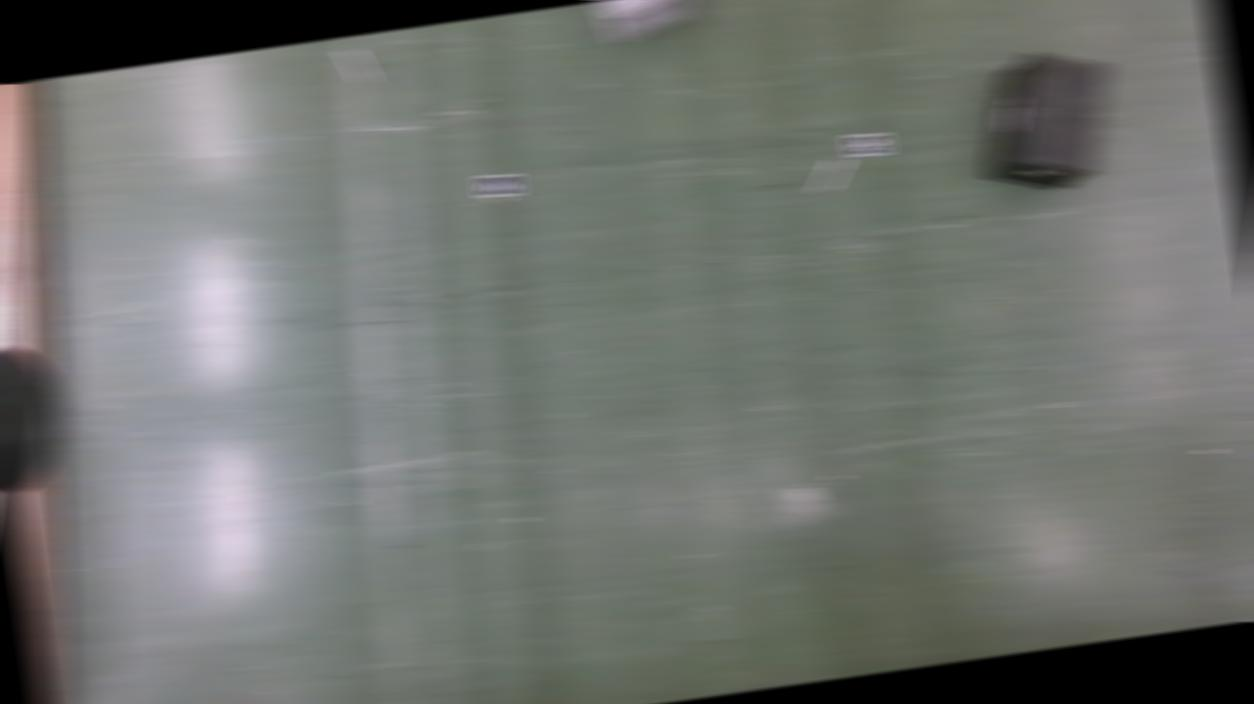probes: (812, 160, 848, 195), (342, 47, 372, 87)
rako: (968, 43, 1125, 201)
